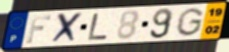8: (116, 9, 142, 42)
9: (148, 7, 175, 40)
F: (25, 15, 53, 45)
G: (174, 7, 206, 38)
L: (86, 12, 110, 41)
X: (49, 11, 85, 45)
